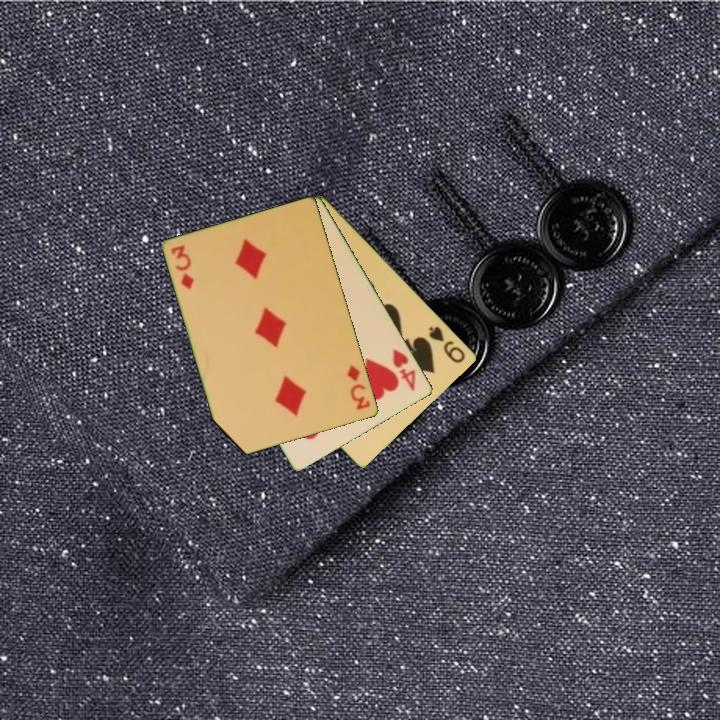3d: (344, 361, 373, 413), (168, 242, 197, 292)
4h: (389, 345, 419, 394)
9s: (425, 323, 468, 366)
